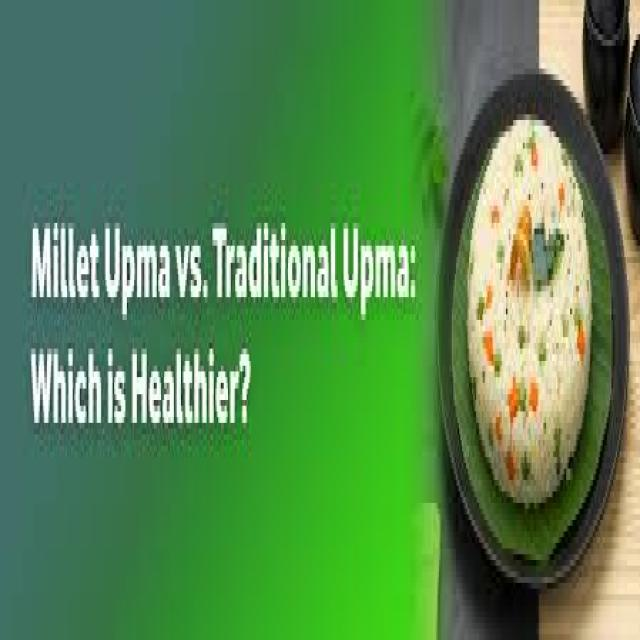UPMA: (466, 109, 586, 497)
